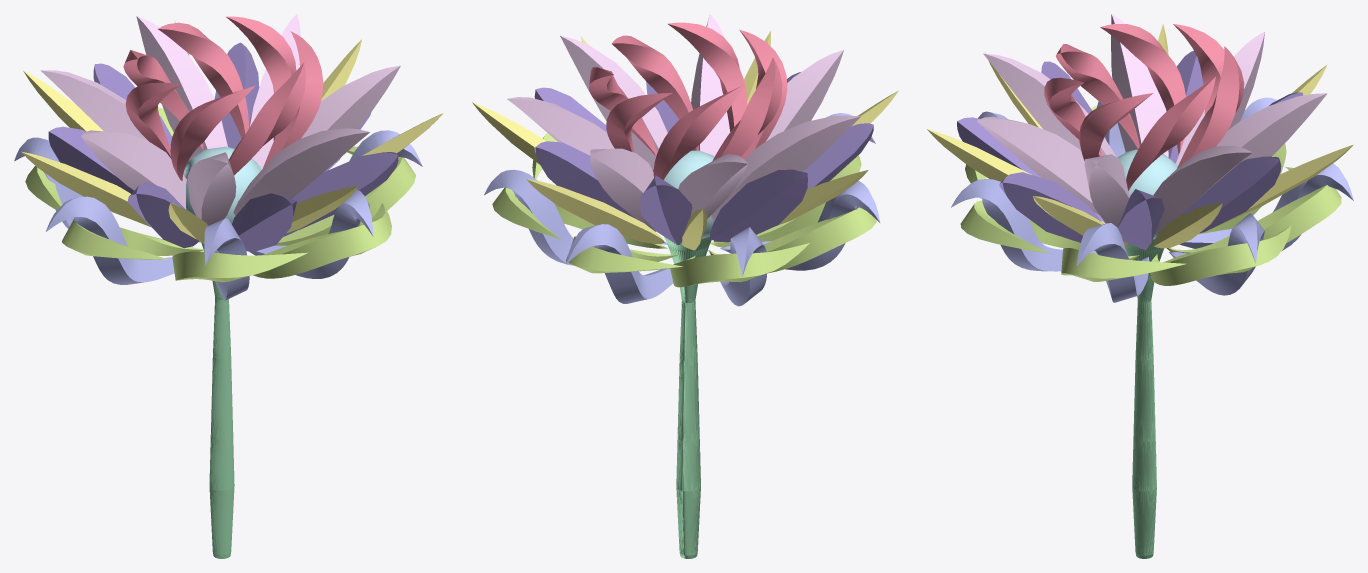
The model's file is abstractflower.fbx.
3 renders of one model, left to right at view 1: azimuth 30°, elevation 25°; view 2: azimuth 150°, elevation 25°; view 3: azimuth 270°, elevation 25°, orthographic.
Parts seen in each view (by area): view 1: abstracttree; view 2: abstracttree; view 3: abstracttree.
Part boxes in pixels (bbox=[...]): abstracttree: bbox=[14, 14, 443, 558]; abstracttree: bbox=[472, 14, 898, 558]; abstracttree: bbox=[927, 14, 1353, 558].
Bounding box in the file's own units: 3208 × 4154 × 3228.
